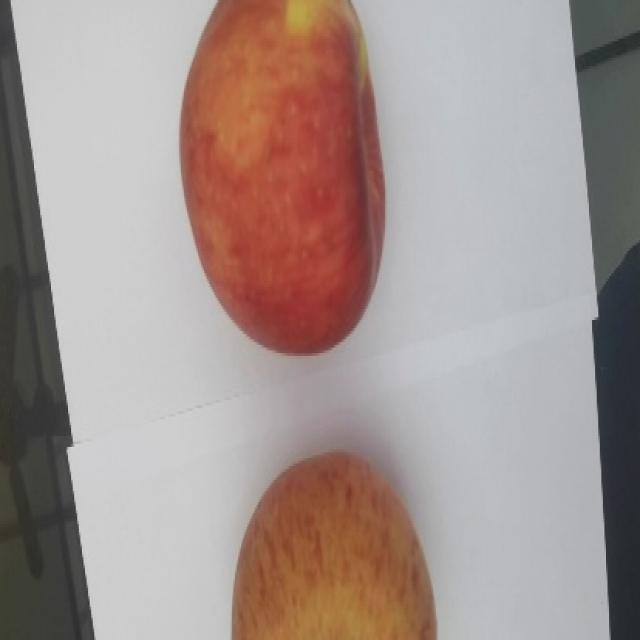Apple: (178, 0, 386, 355), (230, 450, 437, 639)
